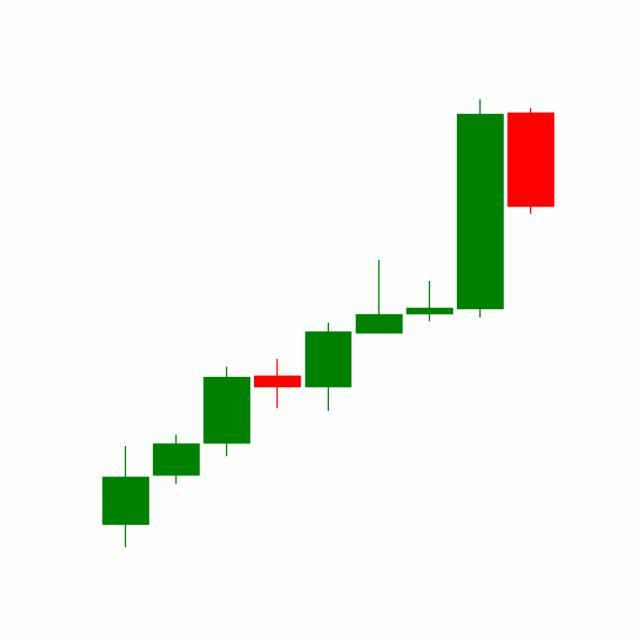Hikkake Pattern: (252, 99, 506, 416)
